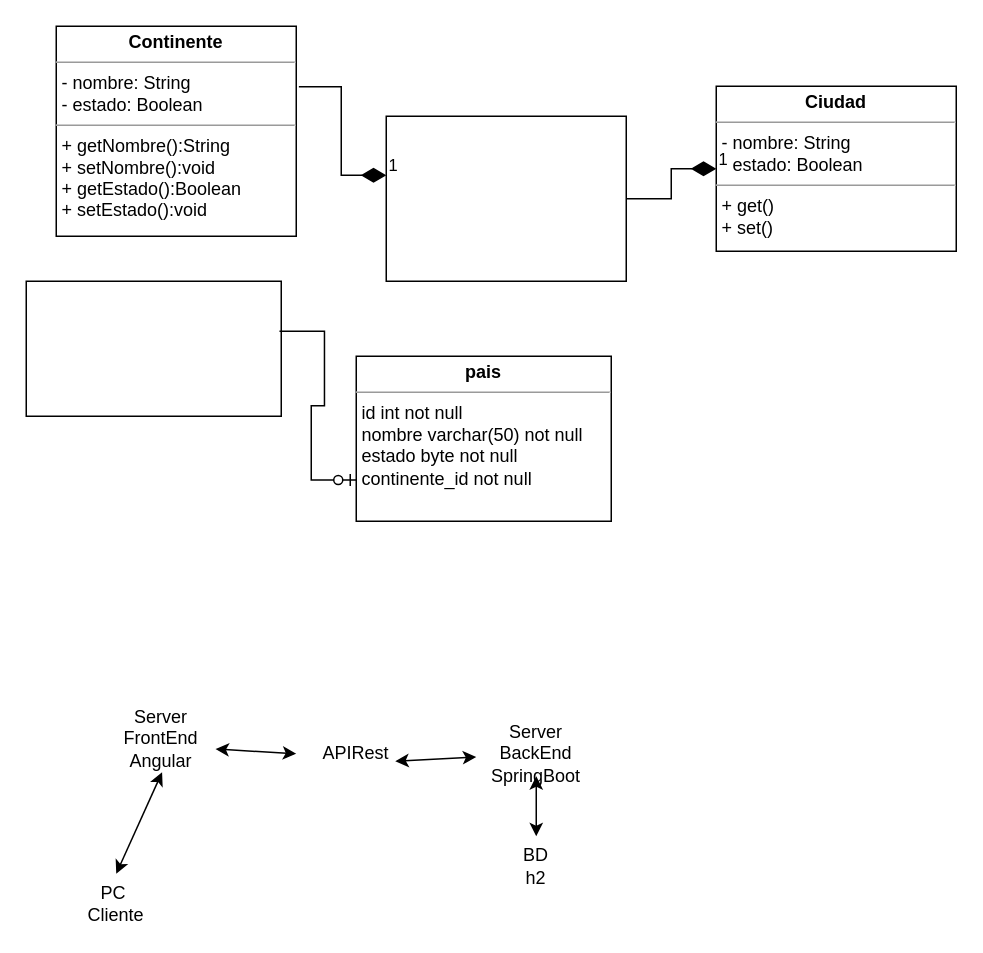
The diagram is 983 pixels wide and 953 high, and some of its shapes have lost their labels. The centre of each missing label's shape, as x and y in pixels:
continente id int not null nombre varchar(50) not null estado byte not null: pixel 153 348
Pais - nombre: String - estado: Boolean + get() + set(): pixel 505 198
